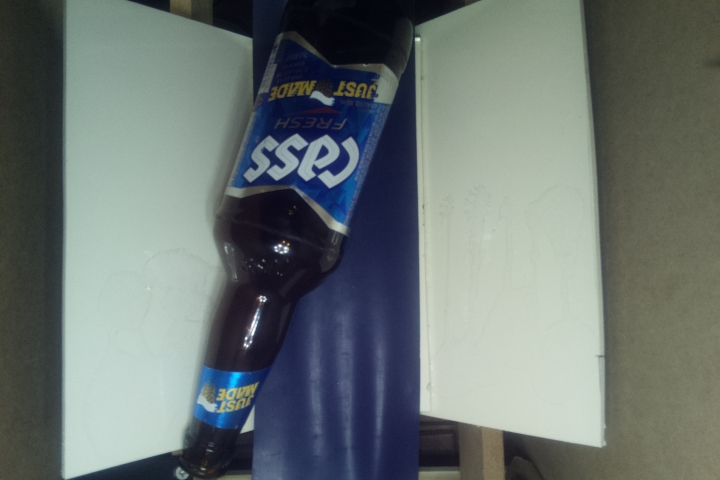makju: (172, 1, 421, 478)
